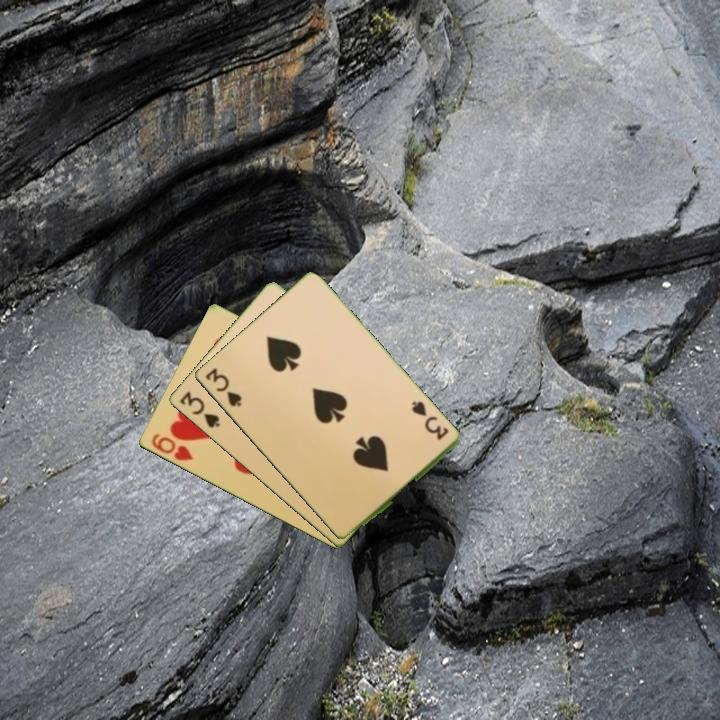3s: (176, 388, 222, 431), (201, 364, 244, 410), (408, 397, 451, 443)
6h: (148, 430, 196, 464)
